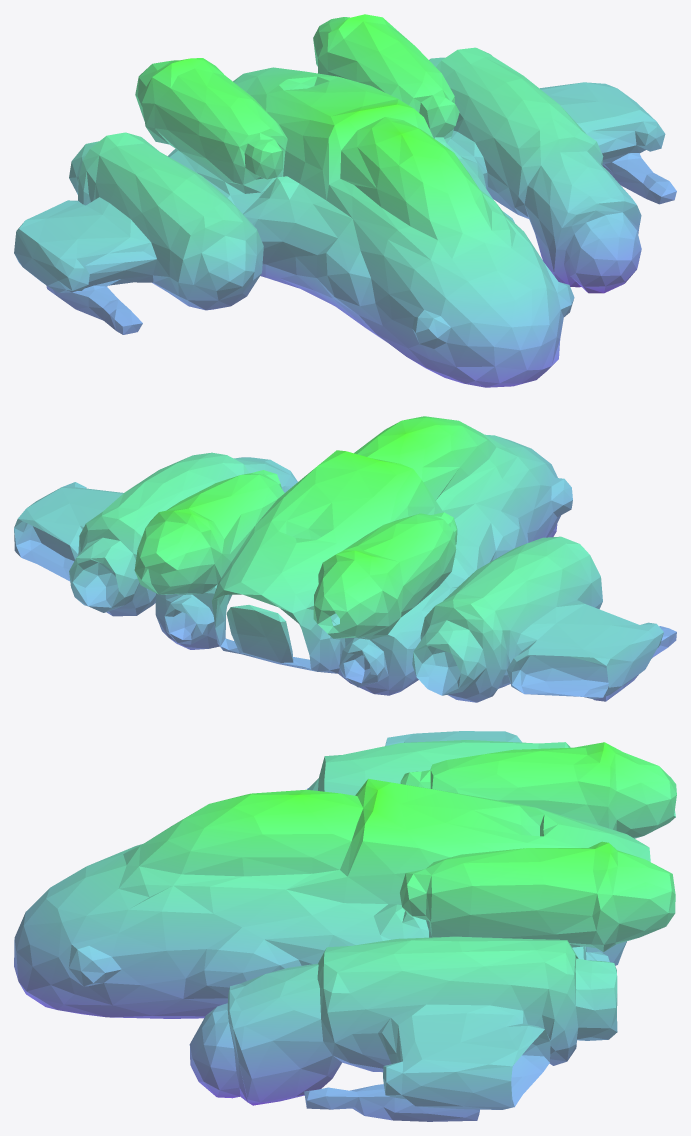
Rendered from 26_cyb_laser_gradient_fish_scales_2998_2026_10_03_3b9814.glb.
3 views of the same model, one above another, from view 1: azimuth 30°, elevation 25°; view 2: azimuth 150°, elevation 25°; view 3: azimuth 270°, elevation 25° (orthographic). The views are drawn at different scales.
Parts seen in each view (by area): view 1: geometry_0; view 2: geometry_0; view 3: geometry_0.
Boxes of the visible parts, x1,y1,x2,y2 form: geometry_0: [14, 14, 676, 387]; geometry_0: [14, 416, 676, 702]; geometry_0: [14, 731, 676, 1121].
Bounding box in the file's own units: 1 × 0.2809 × 0.8269.
